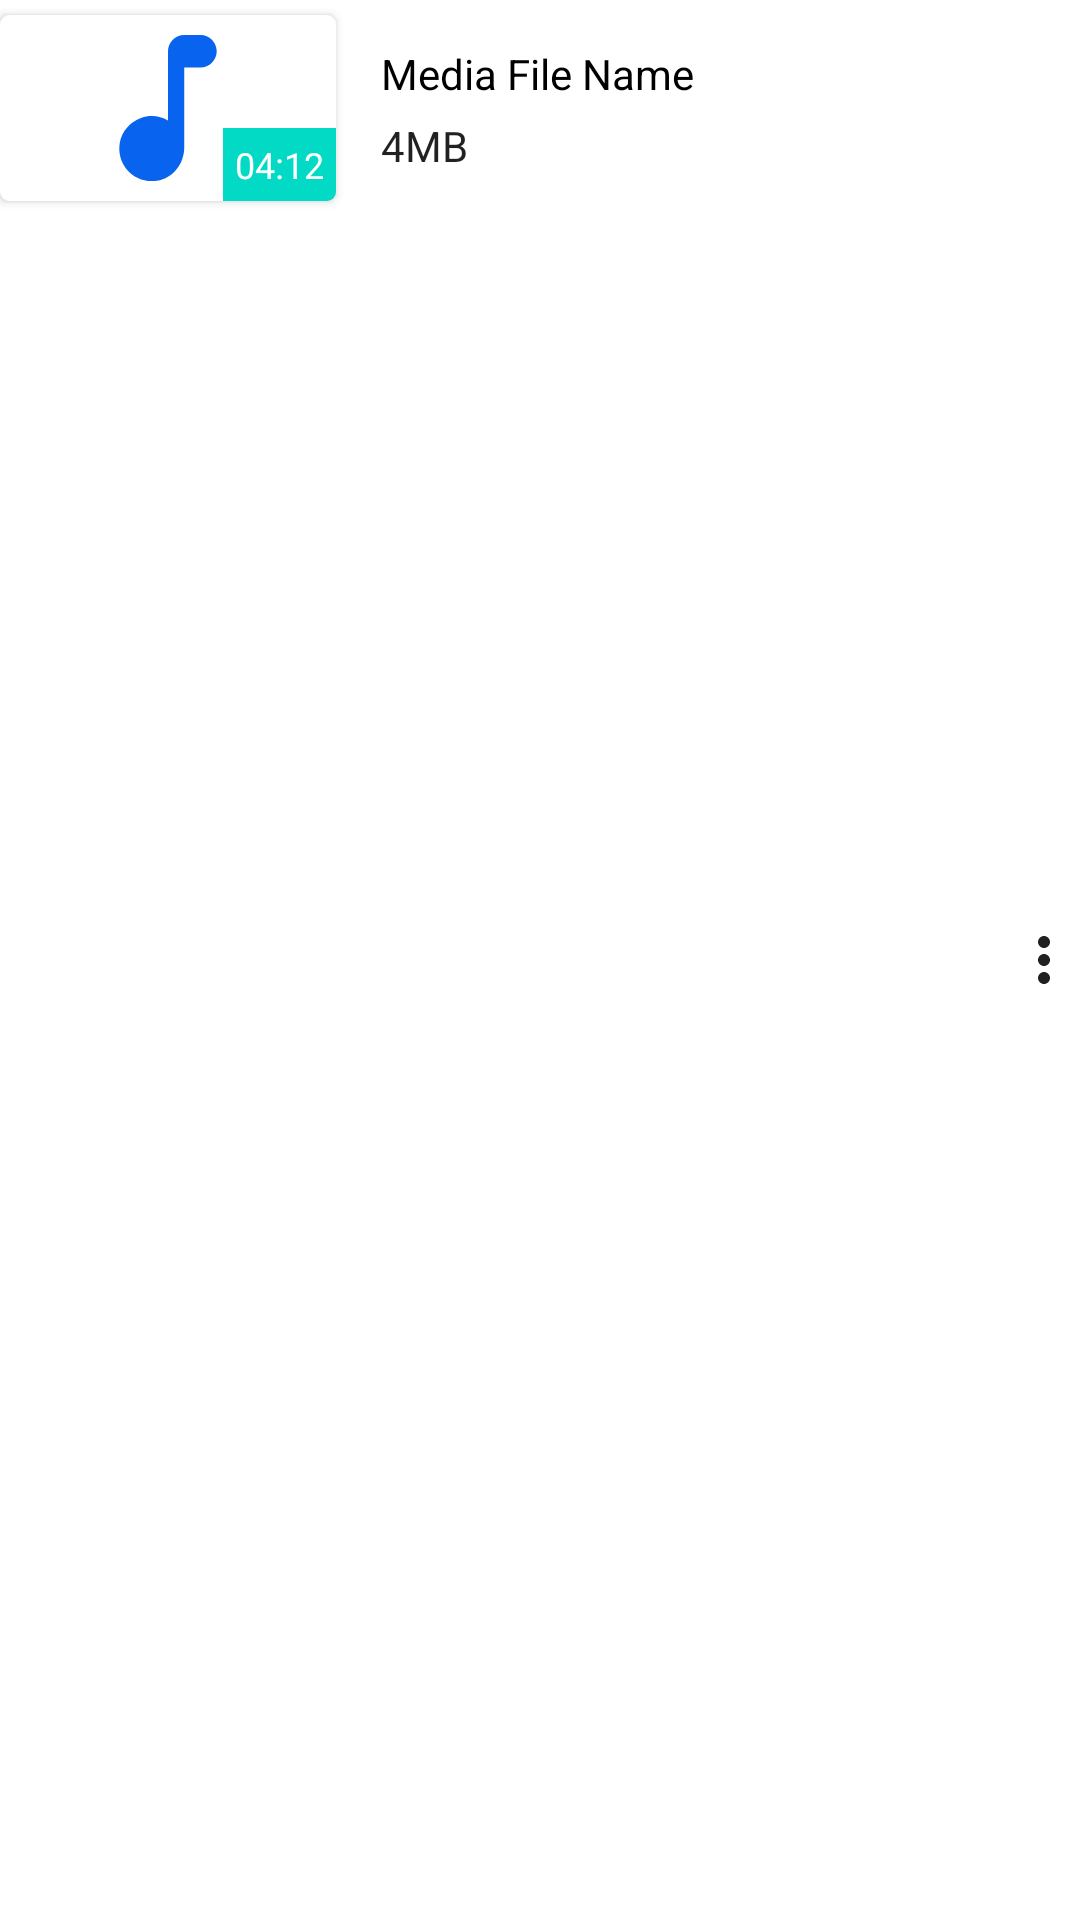

Named icons in this screenshot (1080w x 1920h) and their centers, (x,y):
audio: (168,118)
more: (1044,960)
